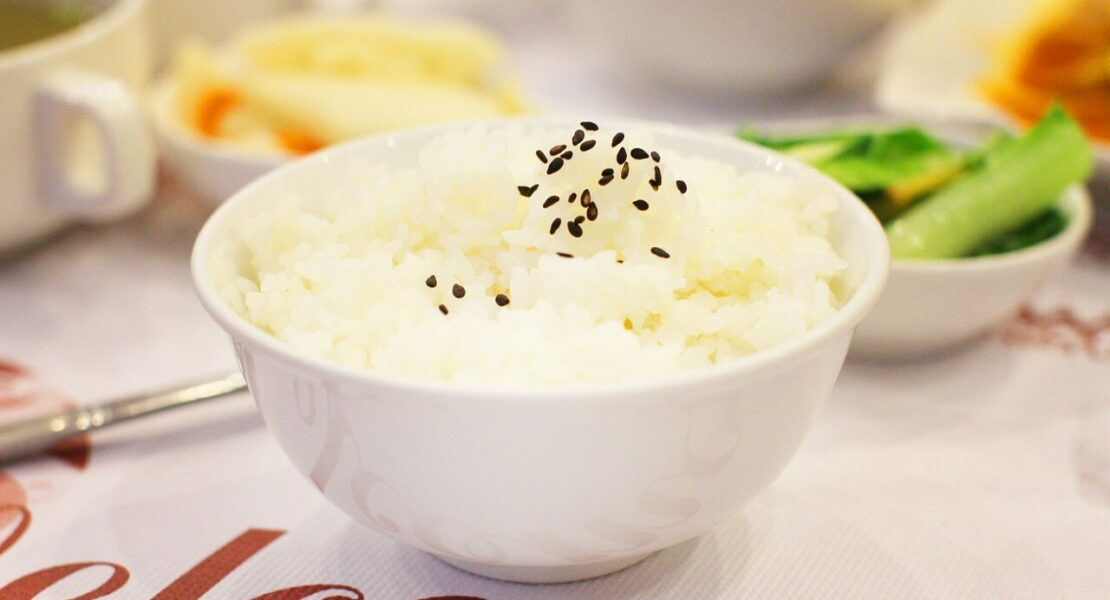Nasi Putih: (209, 54, 847, 464)
